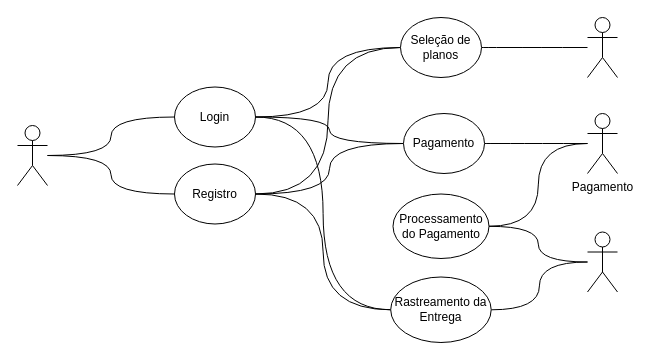
Some shapes in this 650 by 360 pixel diagram are drawn without their labels. The shapes that lost their labels are listed below. From the top down, each one's centre as x and y in pixels, then its label:
(x=602, y=47): Planos
(x=32, y=155): User
(x=602, y=261): Delivery
